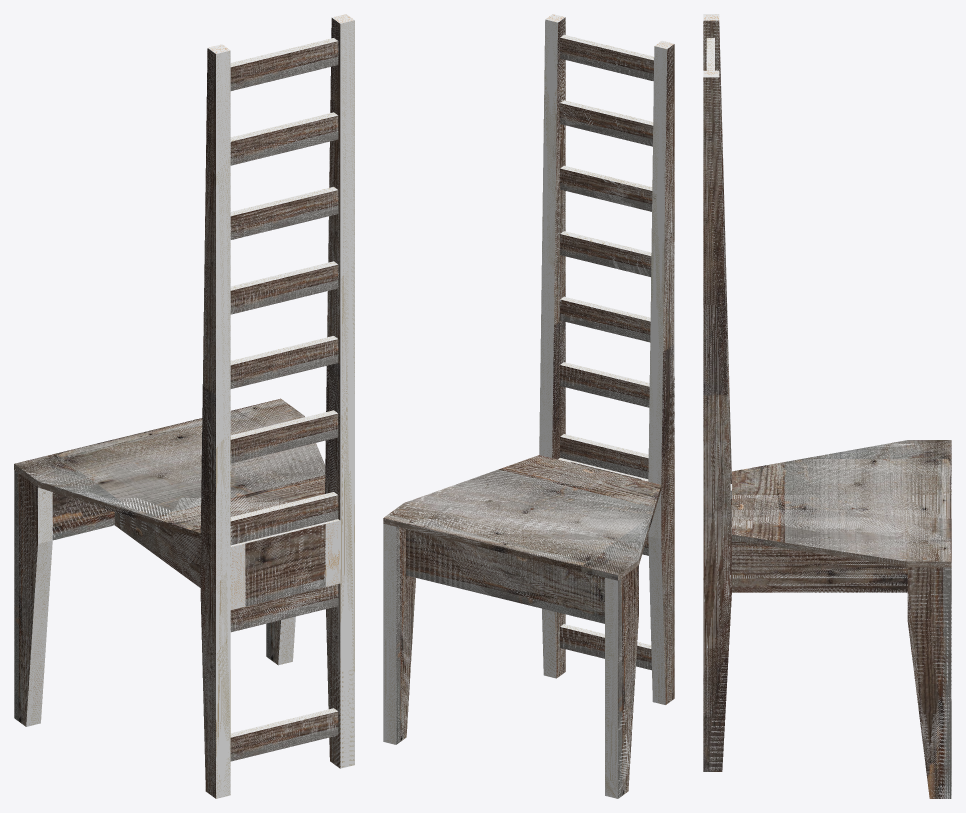
3 renders of one model, left to right at view 1: azimuth 30°, elevation 25°; view 2: azimuth 150°, elevation 25°; view 3: azimuth 270°, elevation 25°, orthographic. The views are drawn at different scales.
Parts seen in each view (by area): view 1: mesh4_mesh4-geometry, mesh7_mesh7-geometry, mesh3_mesh3-geometry, mesh5_mesh5-geometry, mesh6_mesh6-geometry, mesh2_mesh2-geometry, mesh1_mesh1-geometry; view 2: mesh4_mesh4-geometry, mesh3_mesh3-geometry, mesh7_mesh7-geometry, mesh5_mesh5-geometry, mesh1_mesh1-geometry; view 3: mesh3_mesh3-geometry, mesh4_mesh4-geometry, mesh5_mesh5-geometry, mesh2_mesh2-geometry.
Part boxes in pixels (x1,y1,x2,y2): mesh4_mesh4-geometry: (200, 14, 354, 798); mesh7_mesh7-geometry: (230, 38, 338, 761); mesh3_mesh3-geometry: (14, 398, 325, 539); mesh5_mesh5-geometry: (14, 470, 295, 726); mesh6_mesh6-geometry: (244, 522, 325, 606); mesh2_mesh2-geometry: (114, 512, 340, 609); mesh1_mesh1-geometry: (52, 492, 114, 540); mesh4_mesh4-geometry: (539, 14, 674, 704); mesh3_mesh3-geometry: (383, 455, 661, 580); mesh7_mesh7-geometry: (560, 34, 654, 670); mesh5_mesh5-geometry: (383, 523, 638, 798); mesh1_mesh1-geometry: (406, 529, 604, 623); mesh3_mesh3-geometry: (732, 440, 951, 567); mesh4_mesh4-geometry: (703, 14, 731, 771); mesh5_mesh5-geometry: (907, 567, 951, 798); mesh2_mesh2-geometry: (730, 484, 907, 592).
Bounding box in the file's own units: 0.336 × 0.8959 × 0.2905.
Materials: 4 (3 with a texture image).
